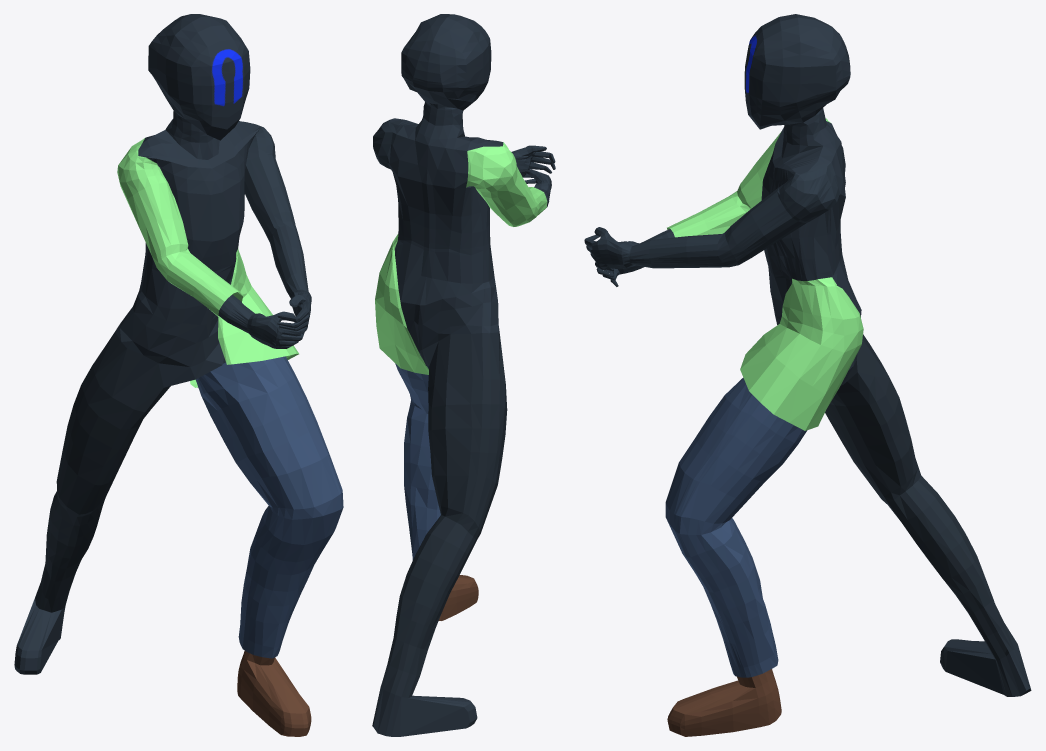
Rendered from Mar_WB_000029.obj.
The picture shows the model from 3 angles, left to right: view 1: azimuth 30°, elevation 25°; view 2: azimuth 150°, elevation 25°; view 3: azimuth 270°, elevation 25°; orthographic projection. The views are drawn at different scales.
Visible parts, largest first — view 1: Cube.000_Cube.001; view 2: Cube.000_Cube.001; view 3: Cube.000_Cube.001.
Boxes of the visible parts, x1=… form: Cube.000_Cube.001: x1=14, y1=14, x2=343, y2=736; Cube.000_Cube.001: x1=372, y1=14, x2=555, y2=736; Cube.000_Cube.001: x1=584, y1=14, x2=1031, y2=736.
Size of the model in its own units: 1.09 by 3.7 by 2.15.
